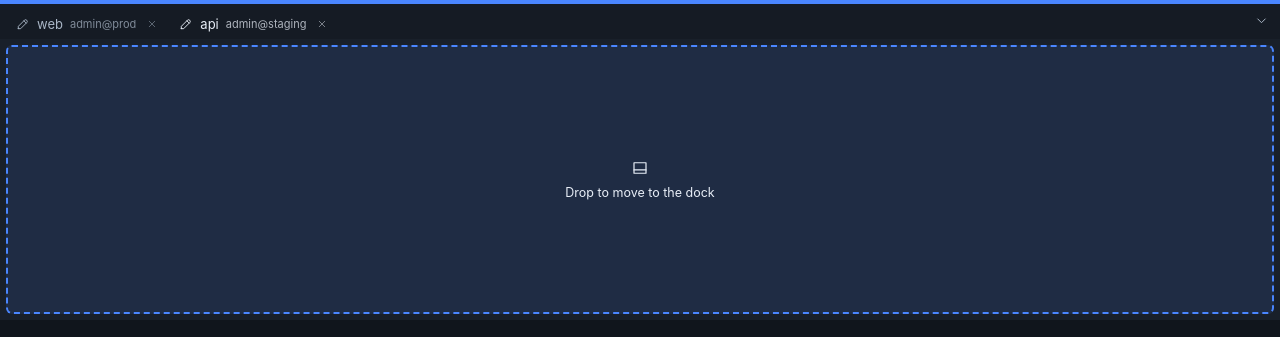
Test: the cluster-scoped menu items appear once two clusters are open here
This screenshot has width=1280, height=337.
Right-click the tab "api admin@staging": (253, 24) 169,9 -> 337,39
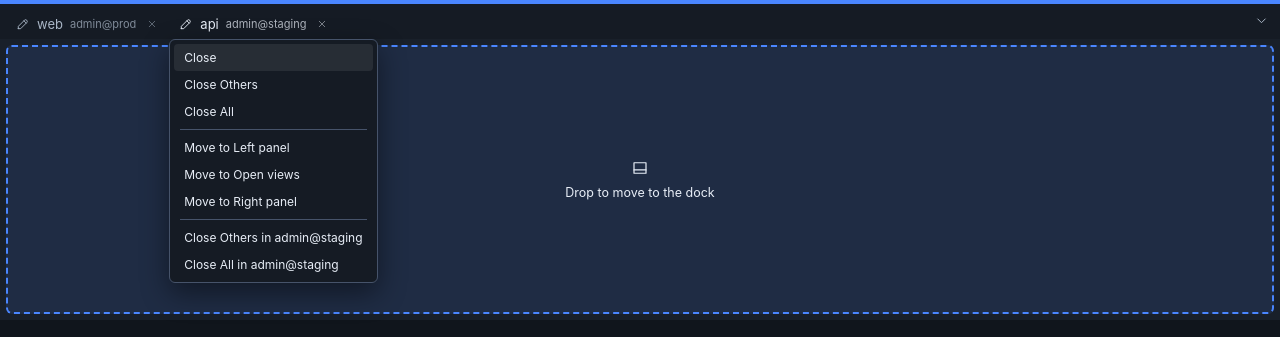
Result: the menu item "Close" is shown at 174,44 -> 373,71
Result: the menu item "Close All in admin@staging" is shown at 174,251 -> 373,278
